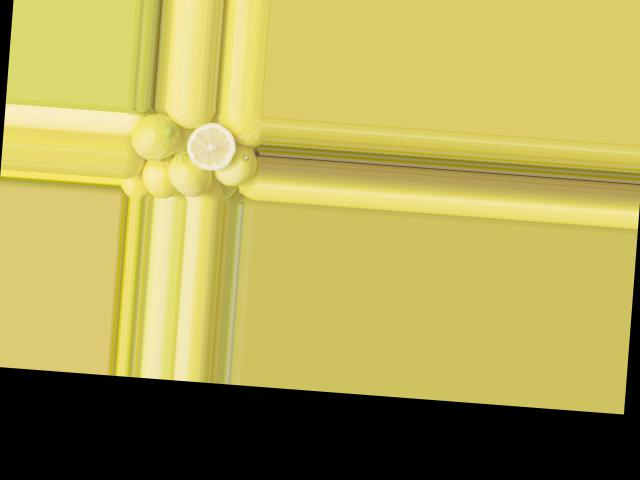lemon: (217, 146, 256, 187)
